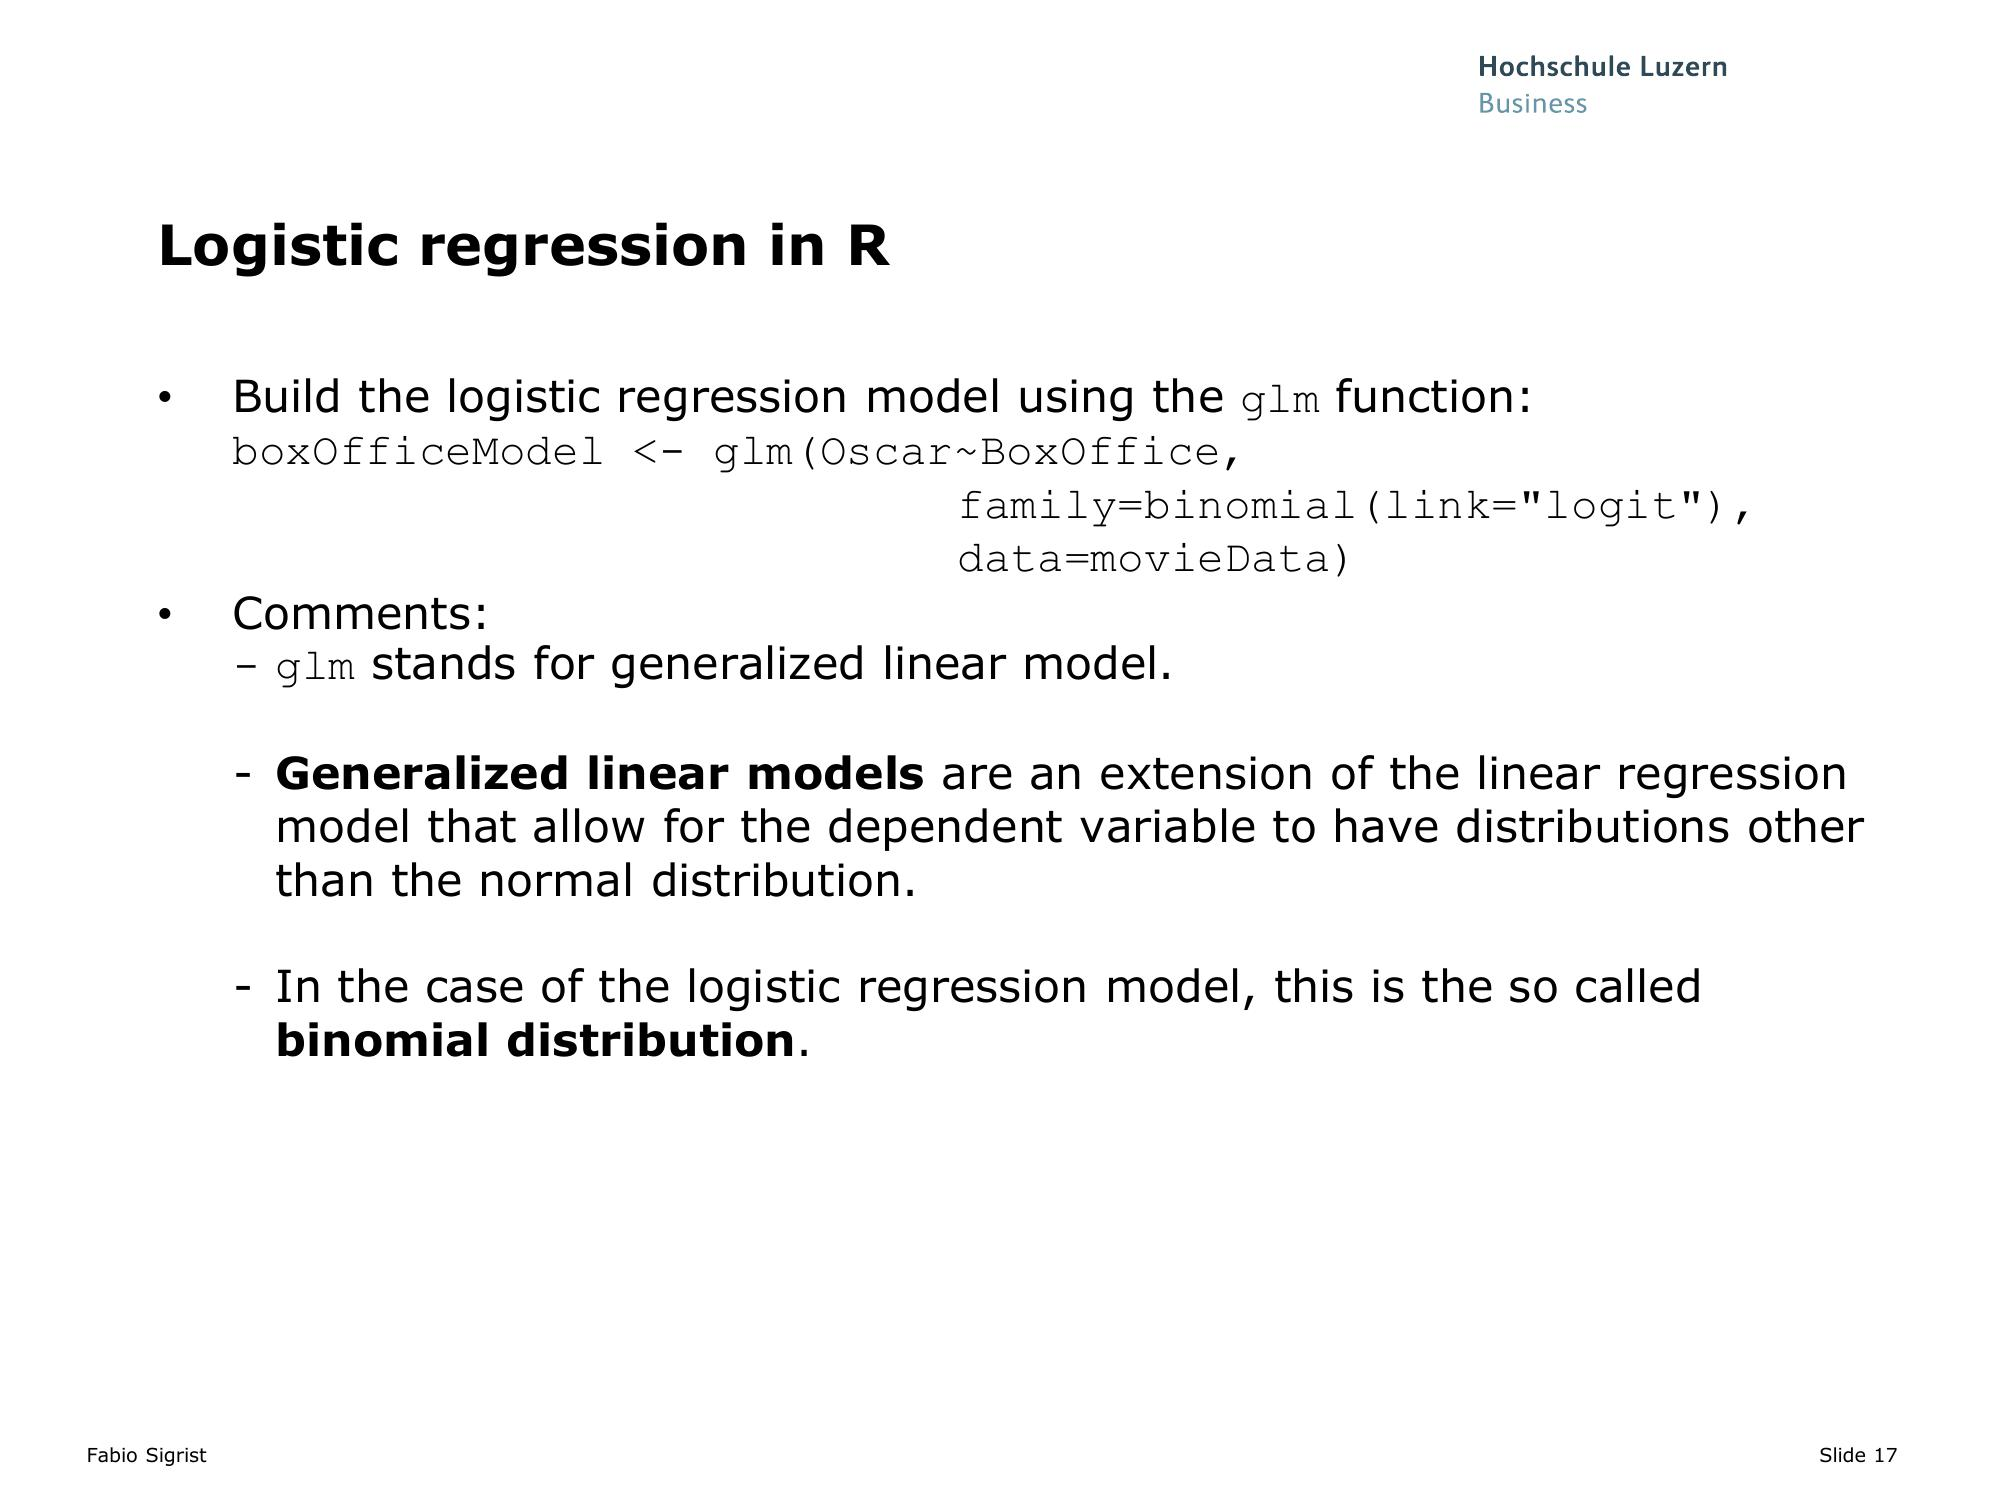Title: (124, 187, 912, 291)
